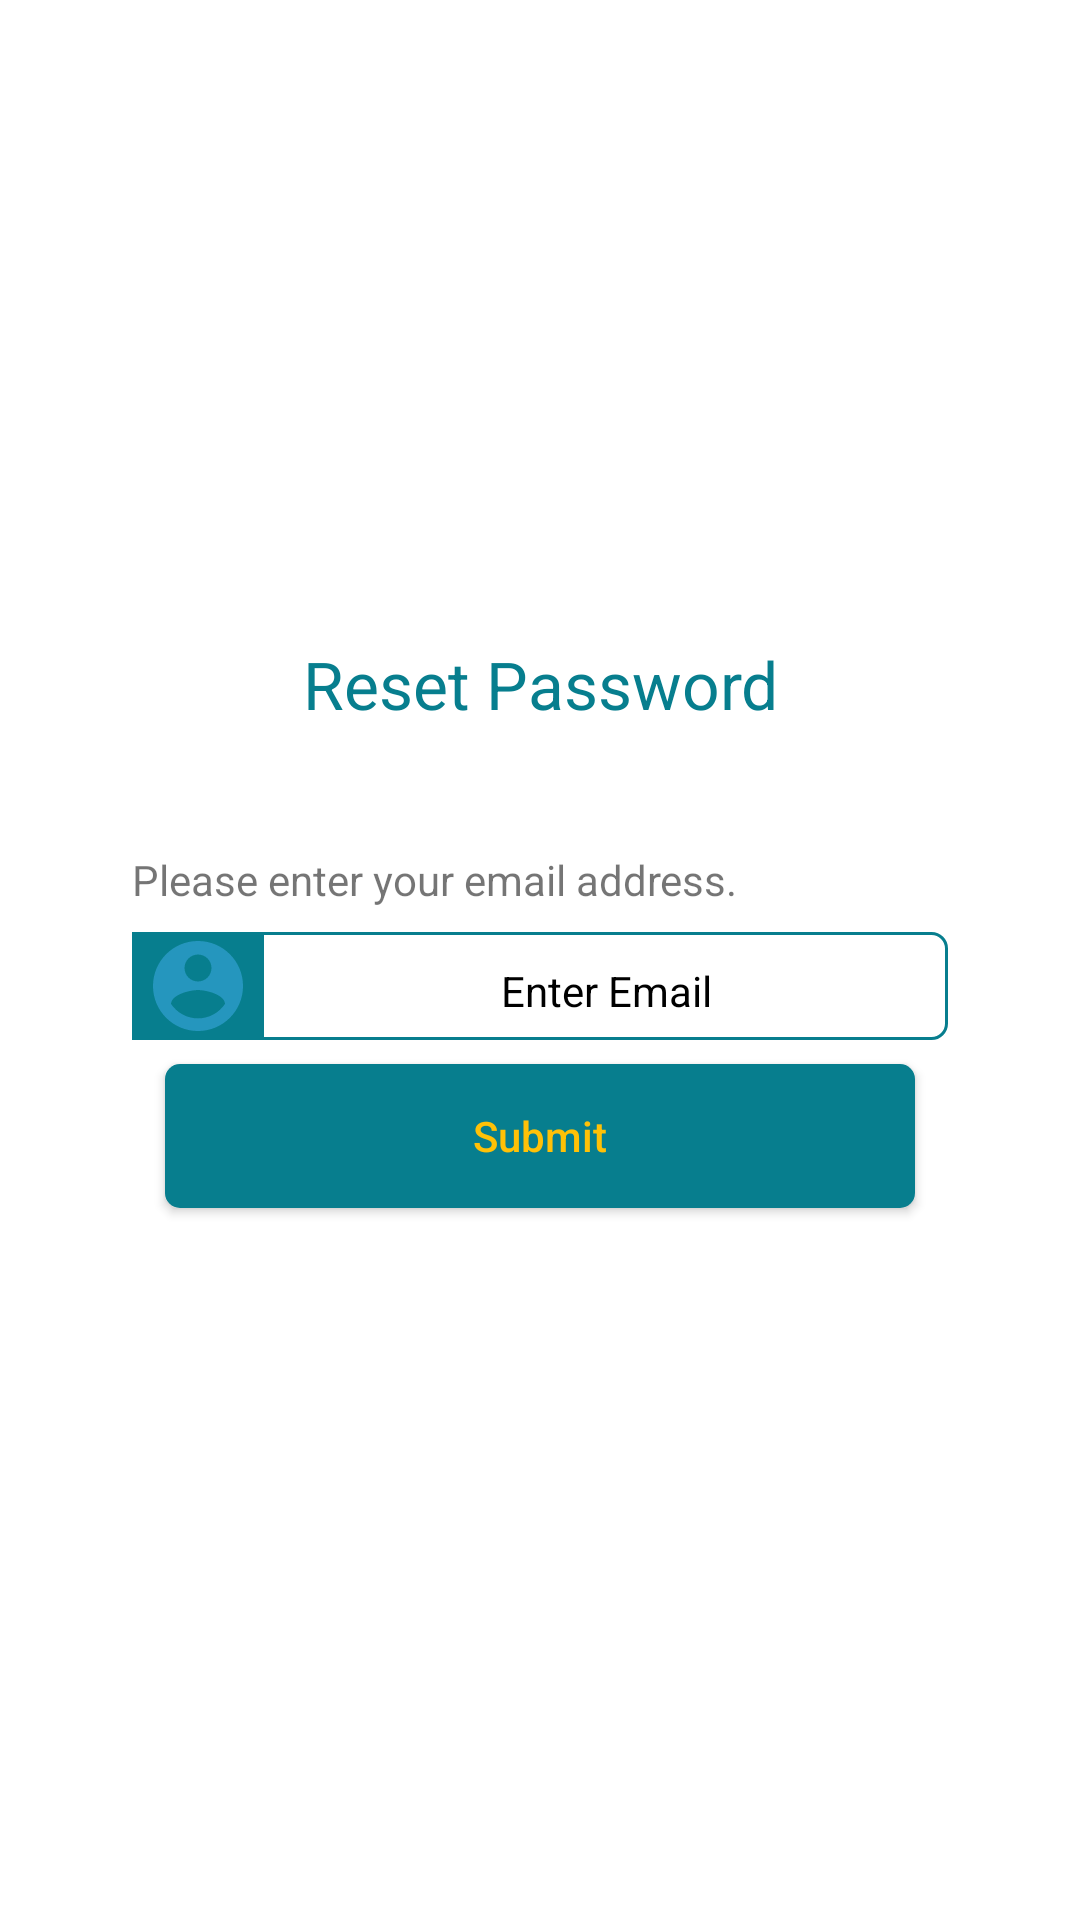

Point at icon controls on the screen. Image size 1080x1920, points as (x=x, y=y).
account circle: (x=198, y=986)
